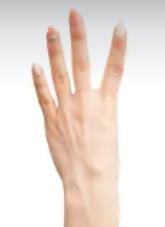right: (28, 5, 130, 175)
